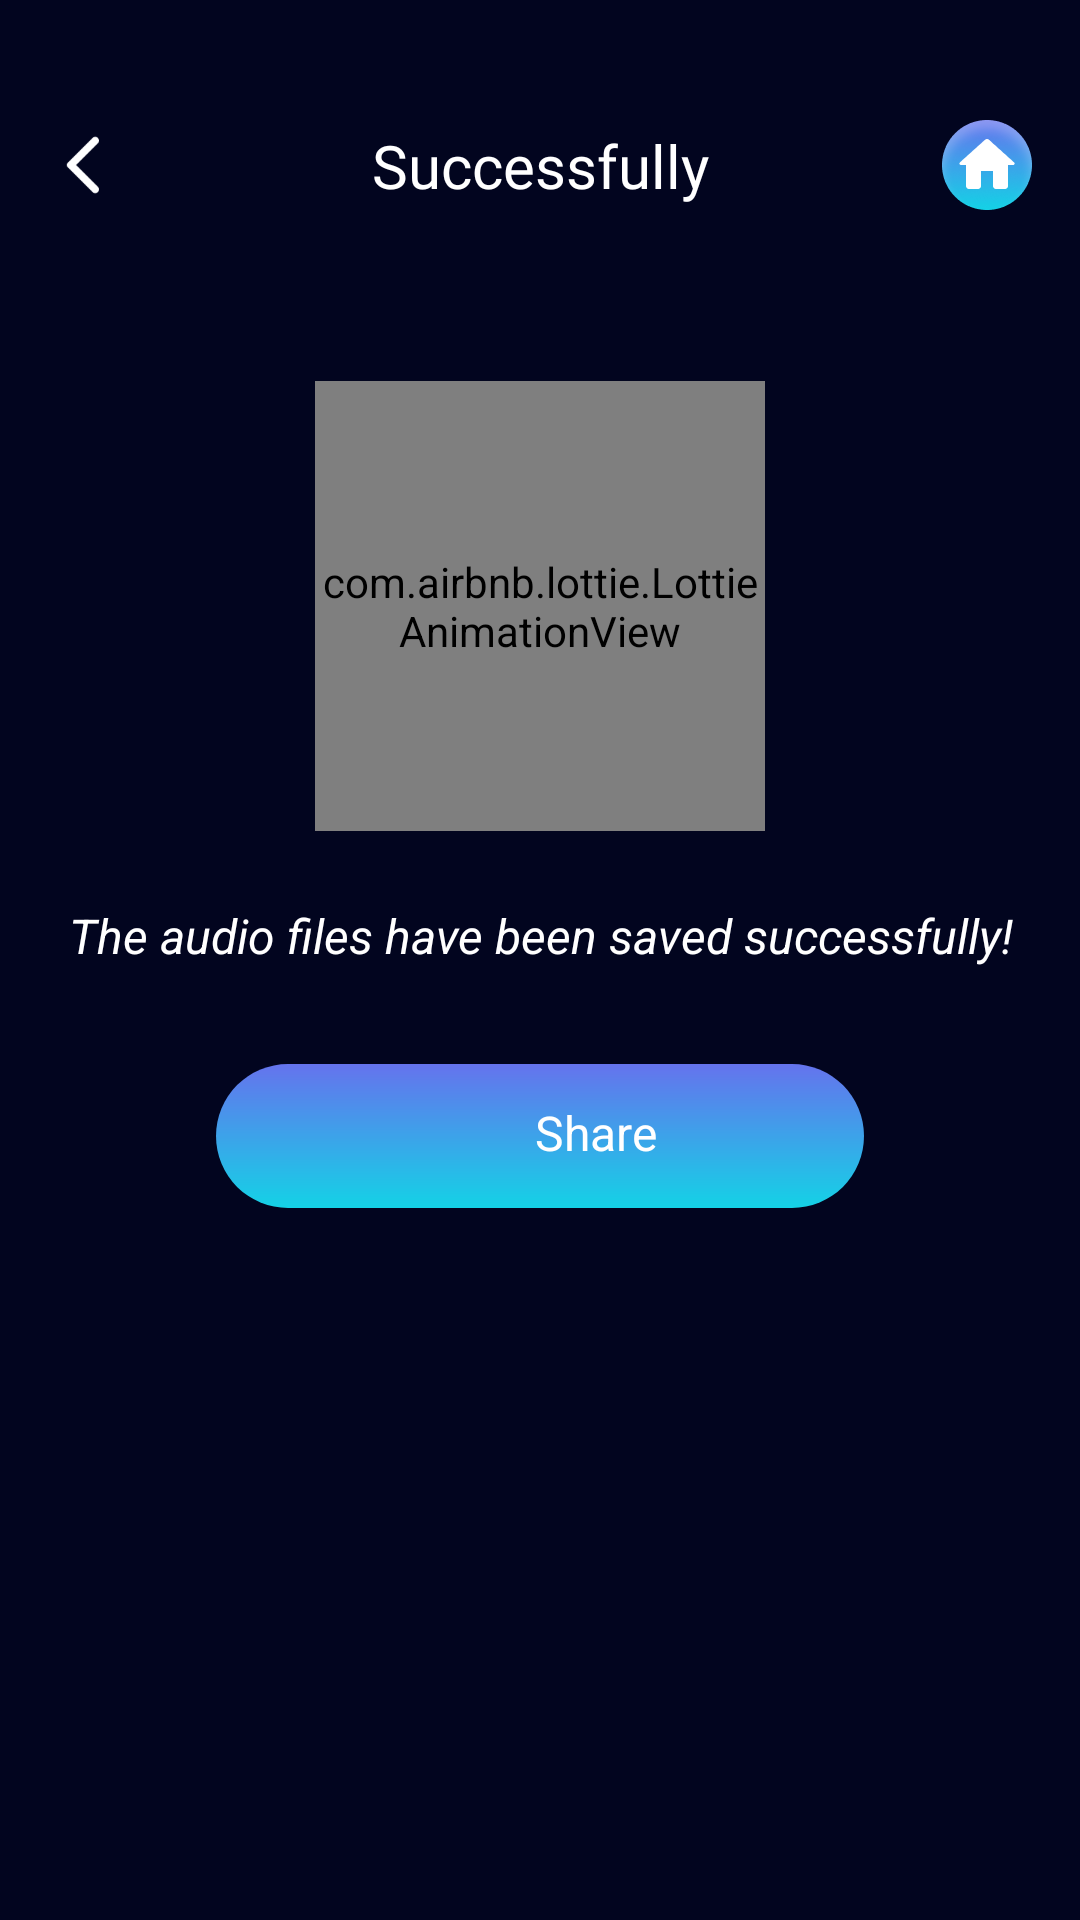

Where icons sit on this 1080 x 1920 app screen, as bbox(x1, y1, x2, y2):
back: bbox(66, 136, 99, 194)
home: bbox(942, 120, 1032, 210)
